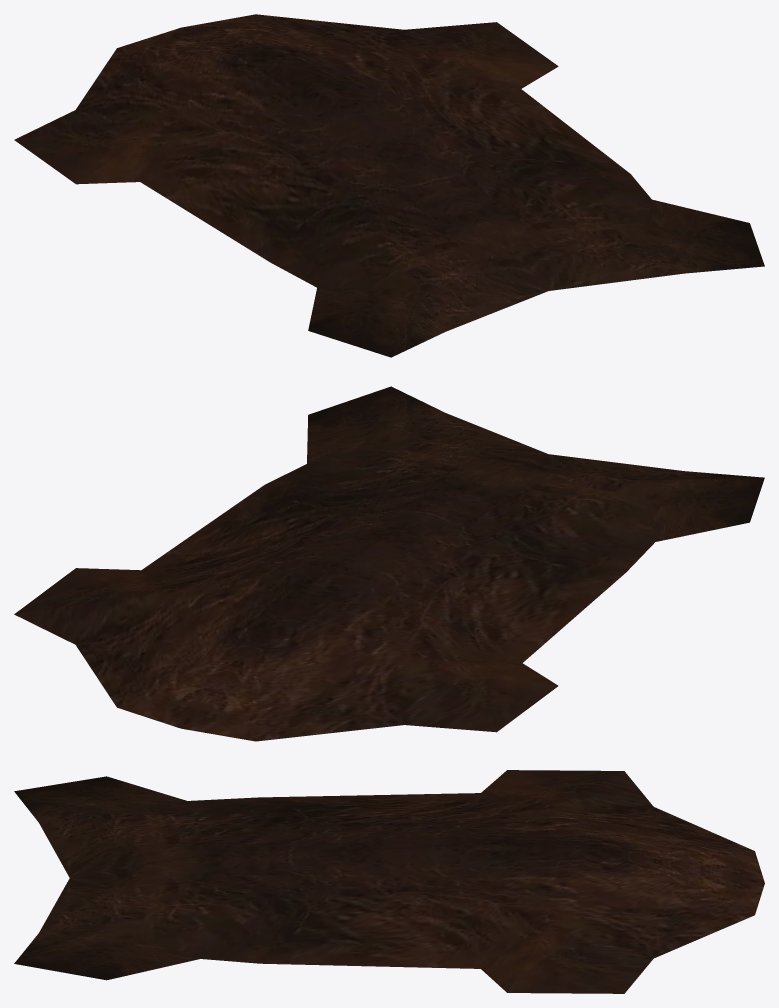
Rendered from NIEDZWIEDZ_FUR_G.glb.
3 views of the same model, one above another, from view 1: azimuth 30°, elevation 25°; view 2: azimuth 150°, elevation 25°; view 3: azimuth 270°, elevation 25° (orthographic). The views are drawn at different scales.
Parts seen in each view (by area): view 1: NIEDZWIEDZ_FUR_G; view 2: NIEDZWIEDZ_FUR_G; view 3: NIEDZWIEDZ_FUR_G.
Boxes of the visible parts, x1,y1,x2,y2 form: NIEDZWIEDZ_FUR_G: (14, 14, 764, 357); NIEDZWIEDZ_FUR_G: (14, 386, 764, 741); NIEDZWIEDZ_FUR_G: (14, 770, 764, 993).
Bounding box in the file's own units: 1.25 × 0.1031 × 1.78.
1 material, 1 textured.
